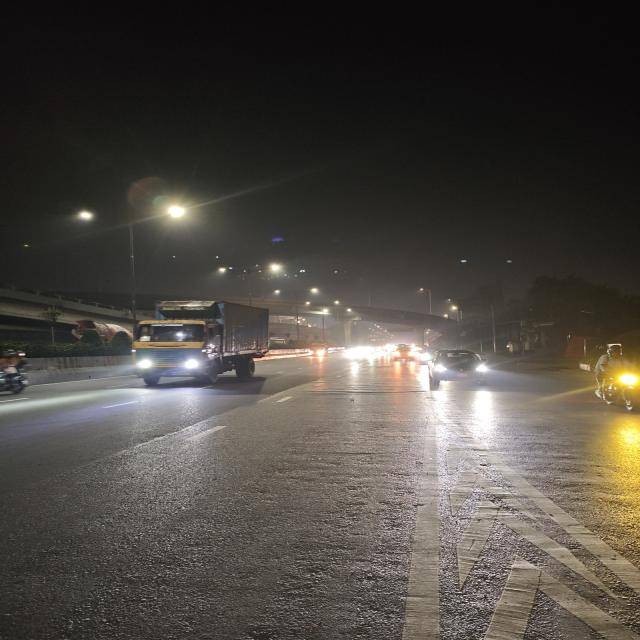bus: (392, 343, 416, 361)
car: (417, 347, 498, 391)
motorcycle: (586, 339, 640, 417)
truck: (130, 296, 270, 389)
